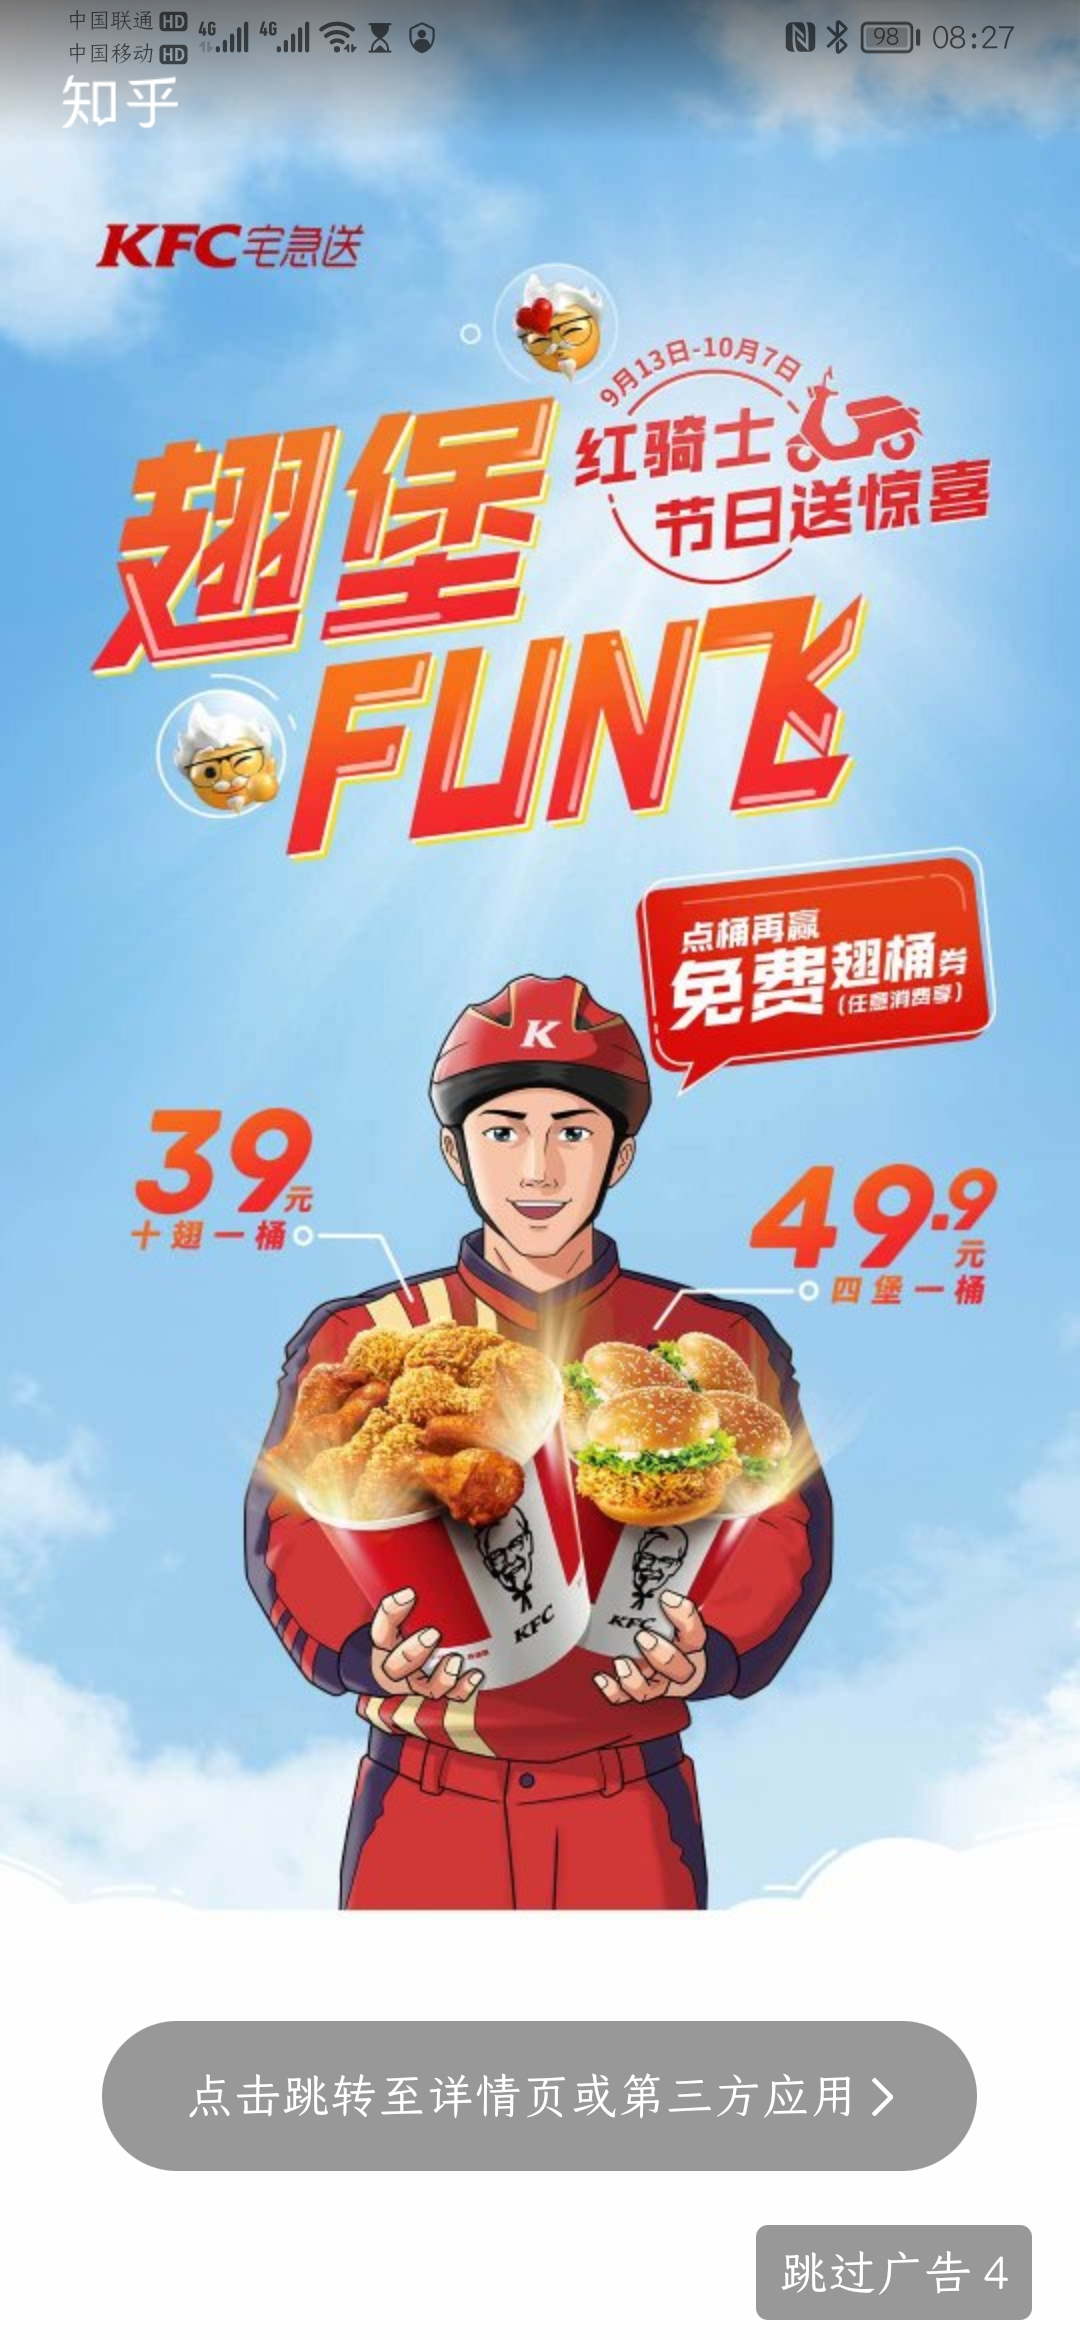skip: (756, 2230, 1023, 2321)
